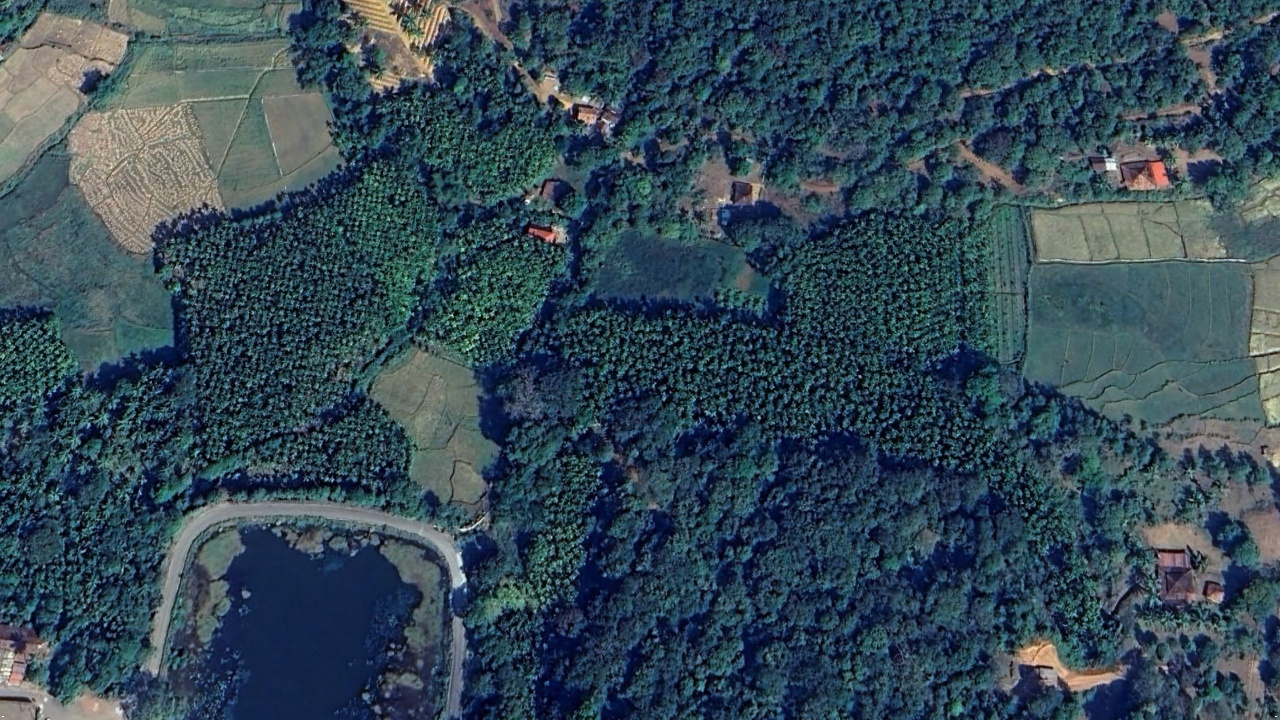arecanut: (1, 59, 566, 532), (544, 217, 1093, 562)
